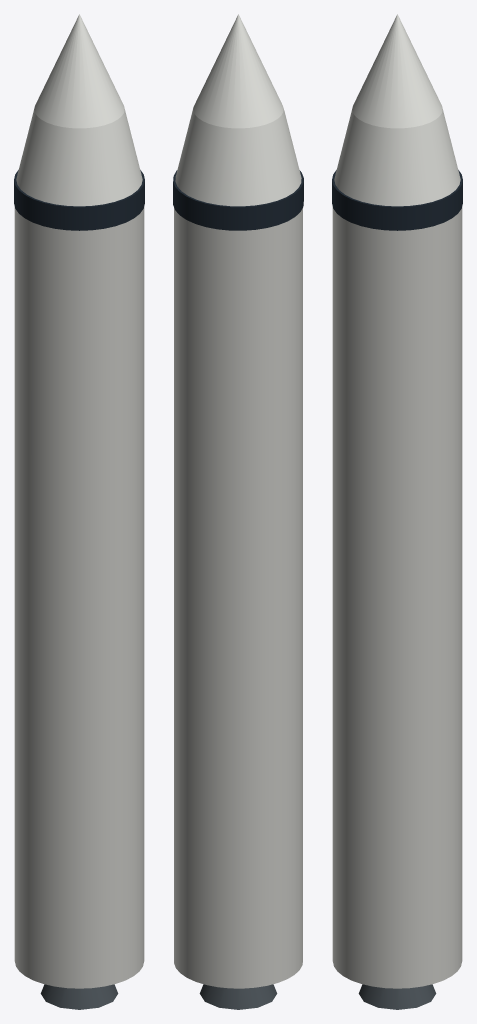
File: thor.glb
3 renders of one model, left to right at view 1: azimuth 90°, elevation 25°; view 2: azimuth 150°, elevation 25°; view 3: azimuth 270°, elevation 25°, orthographic.
Parts seen in each view (by area): view 1: body-0, fairing, nose, interstage-0, engine-0-0; view 2: body-0, fairing, nose, interstage-0, engine-0-0; view 3: body-0, fairing, nose, interstage-0, engine-0-0.
Part boxes in pixels (x1,y1,x2,y2): body-0: (14,207,144,988); fairing: (16,109,142,206); nose: (34,14,124,128); interstage-0: (14,170,144,230); engine-0-0: (40,984,118,1009); body-0: (174,208,302,988); fairing: (175,107,301,206); nose: (193,14,283,128); interstage-0: (173,170,303,230); engine-0-0: (199,984,277,1009); body-0: (332,207,462,988); fairing: (334,109,460,206); nose: (352,14,442,128); interstage-0: (332,170,462,230); engine-0-0: (358,984,436,1009).
Size of the model in its own units: 2.47 by 20.36 by 2.47.
